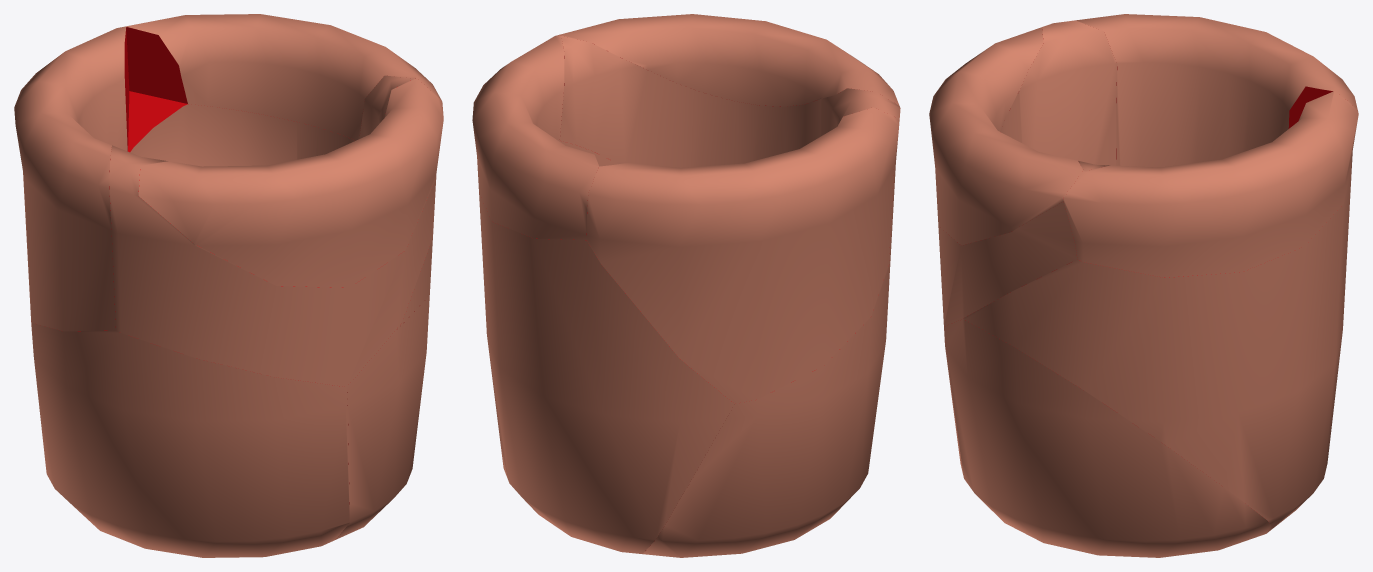
File: ClayDish_04_destroyed 1.fbx
3 views of the same model, side by side, from view 1: azimuth 30°, elevation 25°; view 2: azimuth 150°, elevation 25°; view 3: azimuth 270°, elevation 25° (orthographic).
Visible parts, largest first — view 1: ClayDish_04_cell, ClayDish_04_cell.001, ClayDish_04_cell.002, ClayDish_04_cell.003, ClayDish_04_cell.004, ClayDish_04_cell.005, ClayDish_04_cell.006; view 2: ClayDish_04_cell.003, ClayDish_04_cell.006, ClayDish_04_cell, ClayDish_04_cell.001, ClayDish_04_cell.002, ClayDish_04_cell.004; view 3: ClayDish_04_cell.006, ClayDish_04_cell.005, ClayDish_04_cell.004, ClayDish_04_cell.003, ClayDish_04_cell.001, ClayDish_04_cell.002.
Part boxes in pixels (x1=…): ClayDish_04_cell: x1=30, y1=308, x2=349, y2=557; ClayDish_04_cell.001: x1=109, y1=75, x2=436, y2=386; ClayDish_04_cell.002: x1=138, y1=78, x2=443, y2=287; ClayDish_04_cell.003: x1=14, y1=26, x2=129, y2=331; ClayDish_04_cell.004: x1=126, y1=14, x2=441, y2=140; ClayDish_04_cell.005: x1=335, y1=296, x2=429, y2=539; ClayDish_04_cell.006: x1=128, y1=91, x2=432, y2=329; ClayDish_04_cell.003: x1=586, y1=107, x2=899, y2=403; ClayDish_04_cell.006: x1=479, y1=141, x2=734, y2=553; ClayDish_04_cell: x1=642, y1=263, x2=890, y2=557; ClayDish_04_cell.001: x1=559, y1=36, x2=900, y2=263; ClayDish_04_cell.002: x1=560, y1=14, x2=899, y2=106; ClayDish_04_cell.004: x1=472, y1=34, x2=598, y2=239; ClayDish_04_cell.006: x1=963, y1=163, x2=1351, y2=528; ClayDish_04_cell.005: x1=944, y1=319, x2=1272, y2=557; ClayDish_04_cell.004: x1=1063, y1=91, x2=1358, y2=277; ClayDish_04_cell.003: x1=1076, y1=14, x2=1357, y2=173; ClayDish_04_cell.001: x1=938, y1=20, x2=1117, y2=326; ClayDish_04_cell.002: x1=929, y1=27, x2=1083, y2=245.
Bounding box in the file's own units: 16.03 × 16.33 × 16.03.
